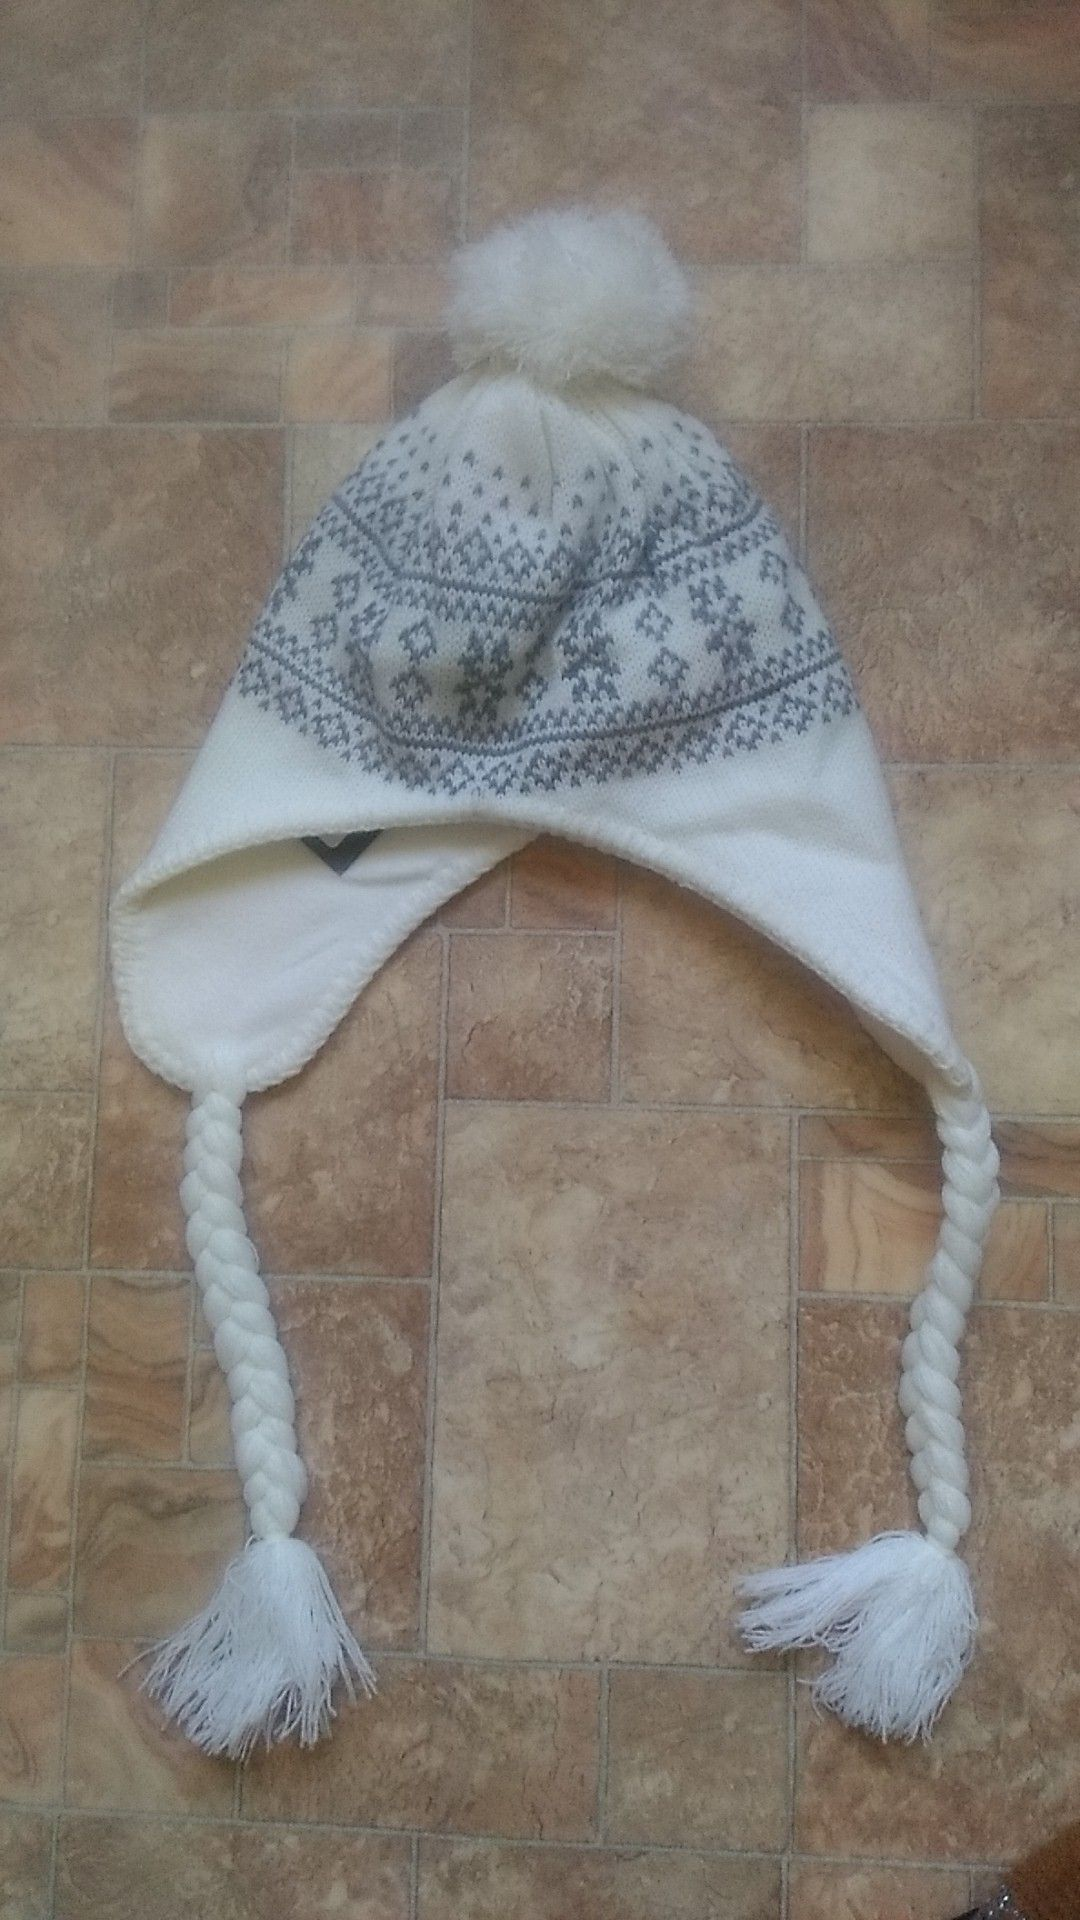clothes: (99, 211, 992, 1763)
